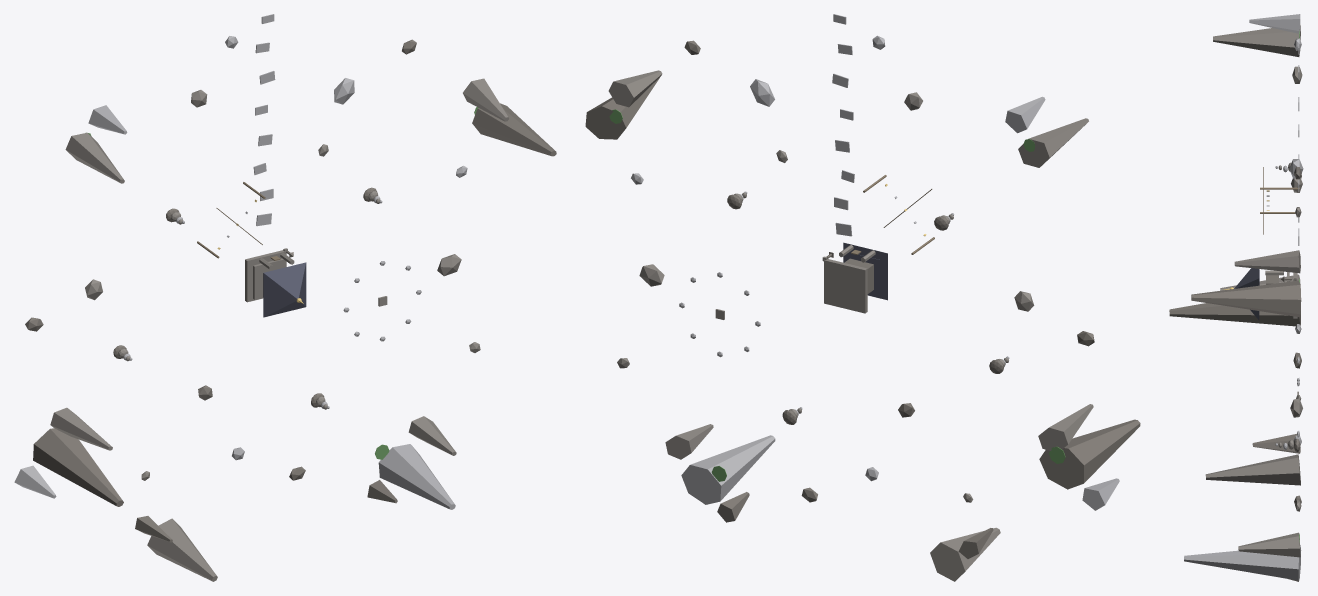
Rendered from mountain-plateau-vignette.glb.
3 views of the same model, side by side, from view 1: azimuth 30°, elevation 25°; view 2: azimuth 150°, elevation 25°; view 3: azimuth 270°, elevation 25° (orthographic). The views are drawn at different scales.
Visible parts, largest first — view 1: Plateau_MidStone, Plateau_DarkStone, Plateau_LightStone, Plateau_Slate; view 2: Plateau_MidStone, Plateau_DarkStone, Plateau_LightStone, Plateau_Slate; view 3: Plateau_MidStone, Plateau_DarkStone, Plateau_LightStone, Plateau_Slate, Plateau_Wood.
Part boxes in pixels (box(x1,y1,x2,y2)): Plateau_MidStone: box(50, 78, 508, 581); Plateau_DarkStone: box(25, 39, 556, 542); Plateau_LightStone: box(14, 14, 467, 509); Plateau_Slate: box(263, 262, 306, 317); Plateau_MidStone: box(608, 70, 1093, 581); Plateau_DarkStone: box(585, 40, 1140, 558); Plateau_LightStone: box(631, 14, 1119, 510); Plateau_Slate: box(843, 242, 887, 300); Plateau_MidStone: box(1205, 24, 1302, 557); Plateau_DarkStone: box(1169, 167, 1301, 581); Plateau_LightStone: box(1184, 14, 1303, 580); Plateau_Slate: box(1234, 268, 1259, 320); Plateau_Wood: box(1260, 167, 1299, 234).
Size of the model in its own units: 7.53 by 7.44 by 1.85.
